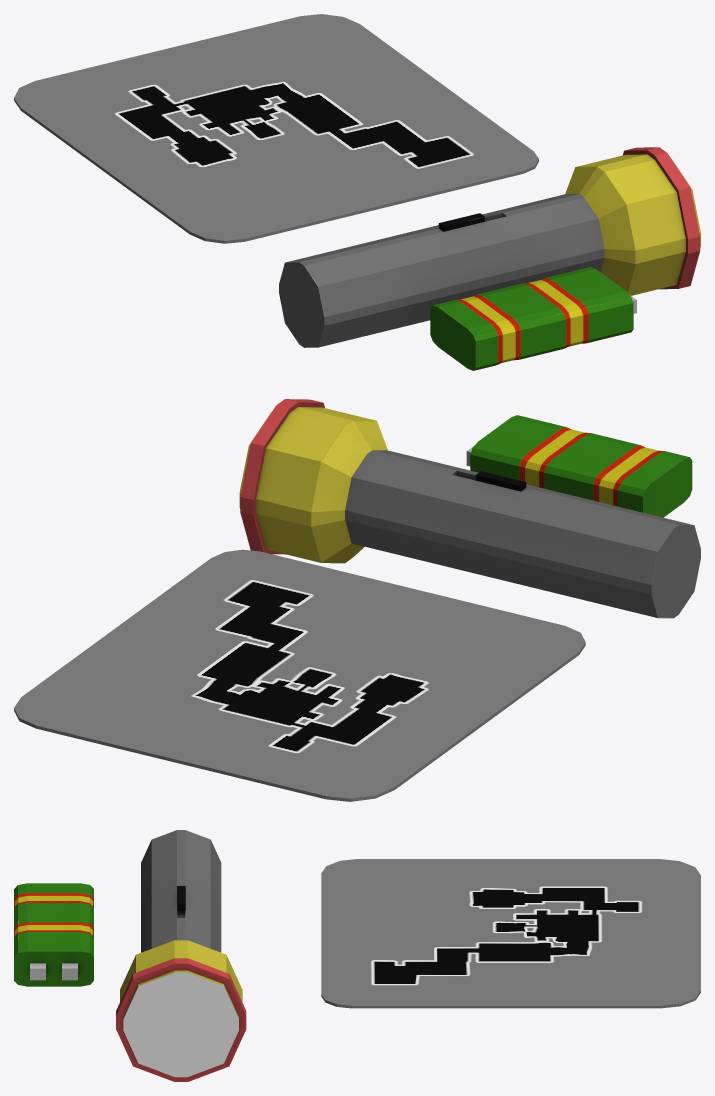
File: map battery and torch.fbx
3 views of the same model, one above another, from view 1: azimuth 30°, elevation 25°; view 2: azimuth 150°, elevation 25°; view 3: azimuth 270°, elevation 25° (orthographic). The views are drawn at different scales.
Visible parts, largest first — view 1: map, torch, battery; view 2: map, torch, battery; view 3: map, torch, battery.
Boxes of the visible parts, bbox=[...] form: map: bbox=[14, 14, 538, 243]; torch: bbox=[279, 147, 700, 347]; battery: bbox=[430, 267, 636, 370]; map: bbox=[14, 549, 585, 801]; torch: bbox=[239, 399, 700, 618]; battery: bbox=[466, 415, 692, 517]; map: bbox=[321, 859, 700, 1008]; torch: bbox=[116, 830, 246, 1081]; battery: bbox=[14, 883, 93, 986].
Bounding box in the file's own units: 9.66 × 3.26 × 17.15.
2 materials, 2 textured.
